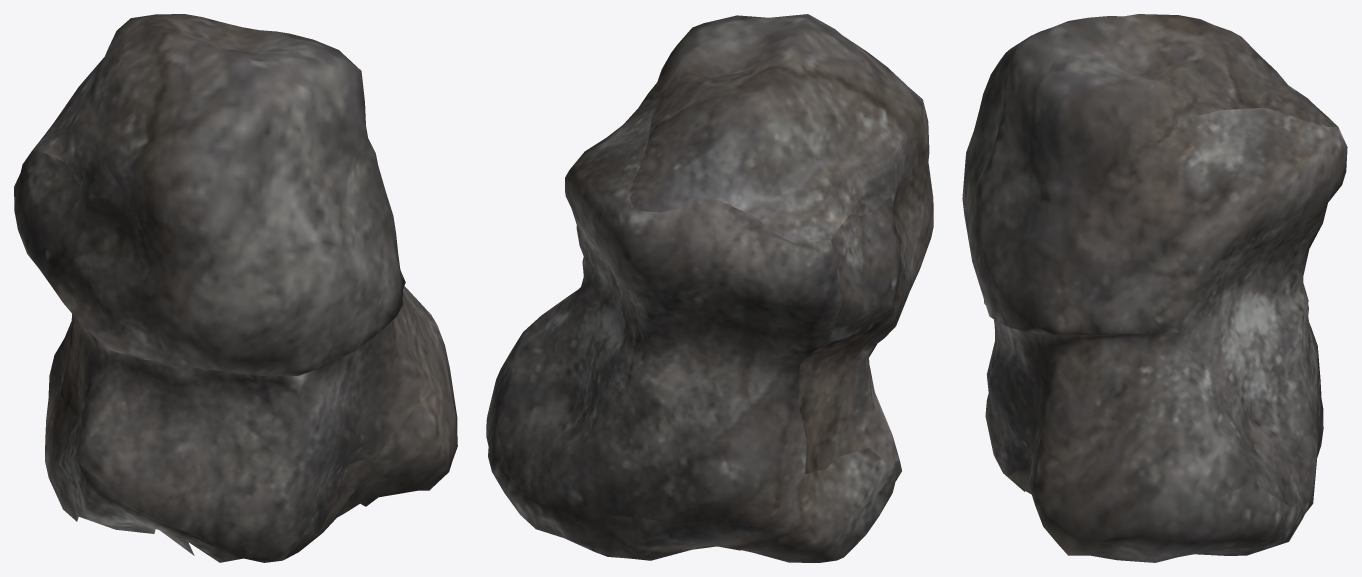
The model's file is N_Rock_6.fbx.
The picture shows the model from 3 angles, left to right: view 1: azimuth 30°, elevation 25°; view 2: azimuth 150°, elevation 25°; view 3: azimuth 270°, elevation 25°; orthographic projection. The views are drawn at different scales.
Parts seen in each view (by area): view 1: Large_3; view 2: Large_3; view 3: Large_3.
Part boxes in pixels (<box>): Large_3: <box>14,14,457,562</box>; Large_3: <box>486,14,933,562</box>; Large_3: <box>962,14,1347,562</box>.
Bounding box in the file's own units: 404 × 477 × 356.
